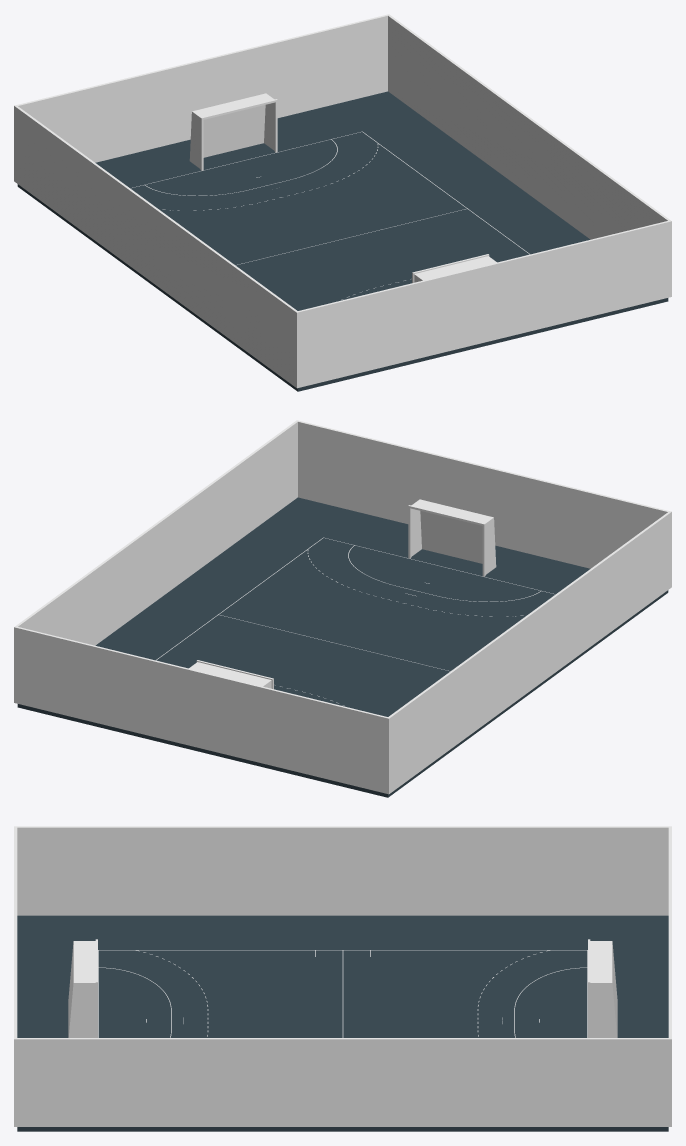
The model's file is terrainfoot.glb.
3 views of the same model, one above another, from view 1: azimuth 30°, elevation 25°; view 2: azimuth 150°, elevation 25°; view 3: azimuth 270°, elevation 25° (orthographic). The views are drawn at different scales.
Visible parts, largest first — view 1: VisualSceneNode1, VisualSceneNode1.005, VisualSceneNode1.002, VisualSceneNode1.003, VisualSceneNode1.006, VisualSceneNode1.004, VisualSceneNode1.001; view 2: VisualSceneNode1, VisualSceneNode1.003, VisualSceneNode1.002, VisualSceneNode1.005, VisualSceneNode1.006, VisualSceneNode1.004, VisualSceneNode1.001; view 3: VisualSceneNode1.006, VisualSceneNode1.004, VisualSceneNode1, VisualSceneNode1.002, VisualSceneNode1.003, VisualSceneNode1.001, VisualSceneNode1.005.
Boxes of the visible parts, <box> form: VisualSceneNode1: <box>130,132,529,310</box>; VisualSceneNode1.005: <box>295,221,669,388</box>; VisualSceneNode1.002: <box>17,91,668,391</box>; VisualSceneNode1.003: <box>14,14,389,181</box>; VisualSceneNode1.006: <box>15,106,297,386</box>; VisualSceneNode1.004: <box>388,15,671,297</box>; VisualSceneNode1.001: <box>131,131,529,265</box>; VisualSceneNode1: <box>156,538,555,716</box>; VisualSceneNode1.003: <box>14,626,390,794</box>; VisualSceneNode1.002: <box>17,497,668,797</box>; VisualSceneNode1.005: <box>298,421,671,587</box>; VisualSceneNode1.006: <box>388,512,670,792</box>; VisualSceneNode1.004: <box>15,420,298,645</box>; VisualSceneNode1.001: <box>156,537,554,671</box>; VisualSceneNode1.006: <box>17,826,668,915</box>; VisualSceneNode1.004: <box>14,1038,668,1126</box>; VisualSceneNode1: <box>98,950,587,1037</box>; VisualSceneNode1.002: <box>17,915,668,1131</box>; VisualSceneNode1.003: <box>668,826,671,1126</box>; VisualSceneNode1.001: <box>98,950,587,1037</box>; VisualSceneNode1.005: <box>14,826,17,1037</box>.
Bounding box in the file's own units: 15.57 × 3.2 × 20.34.
